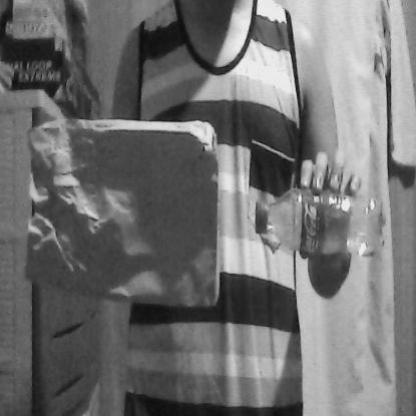Plastic Bottle: (251, 173, 392, 281)
